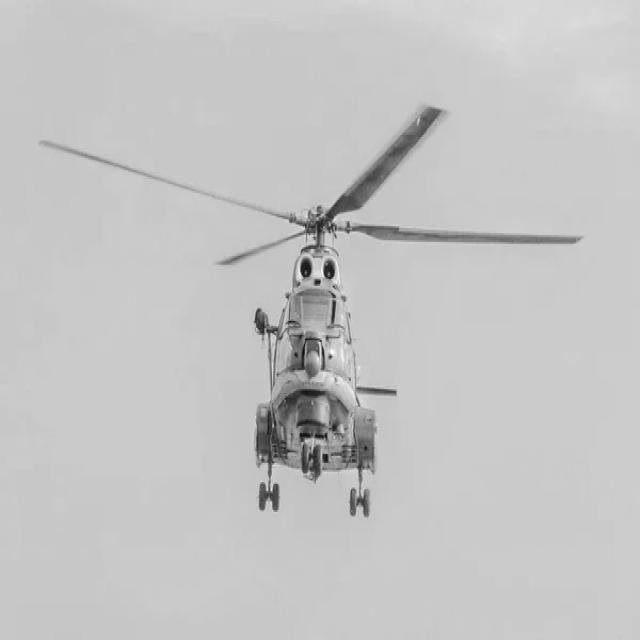Helicopter: (41, 105, 584, 517)
